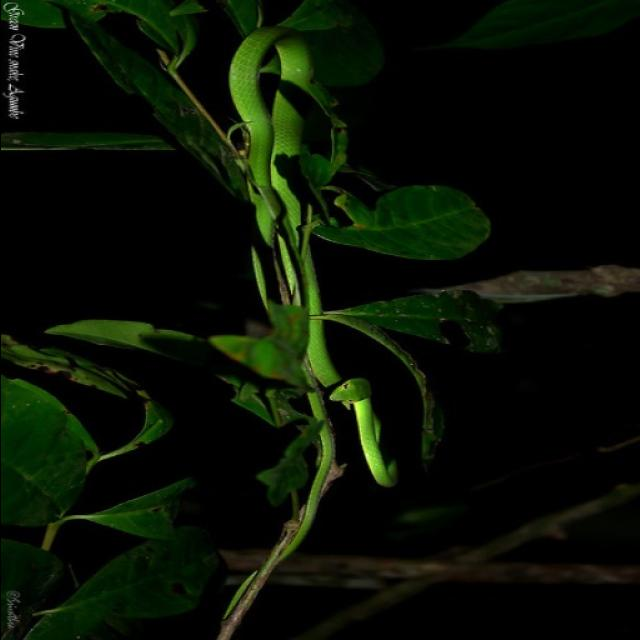snake: (204, 25, 413, 640)
